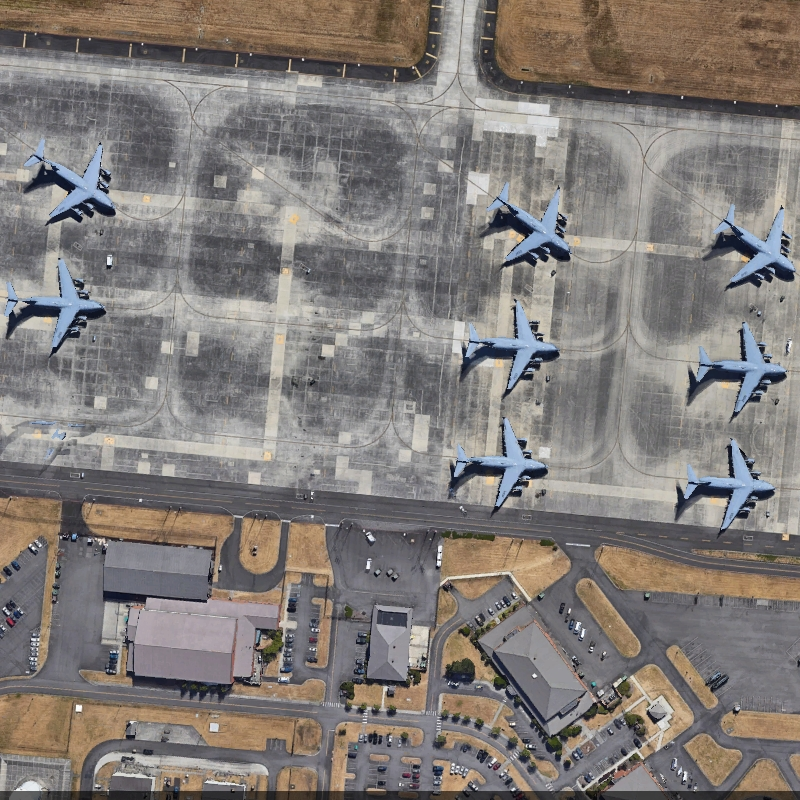A3: (675, 429, 782, 540), (458, 289, 565, 399), (682, 319, 797, 420), (439, 411, 549, 515), (2, 253, 107, 359), (18, 135, 124, 227), (479, 174, 581, 269), (702, 196, 800, 291)
